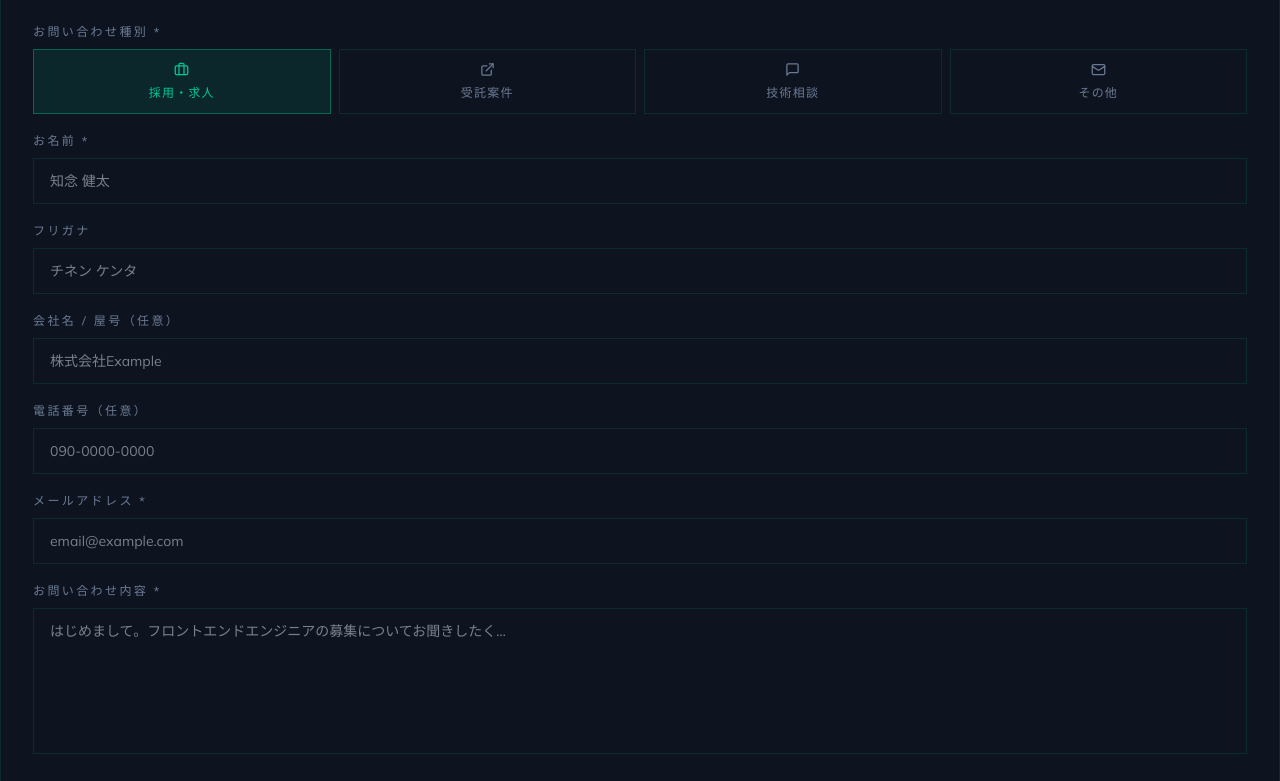
ContactForm › requires privacy policy consent before proceeding
This screenshot has width=1280, height=781.
Type "テスト太郎" into the field with placeholder "知念 健太" at (640, 181), box x1=33 y1=158 x2=1247 y2=204
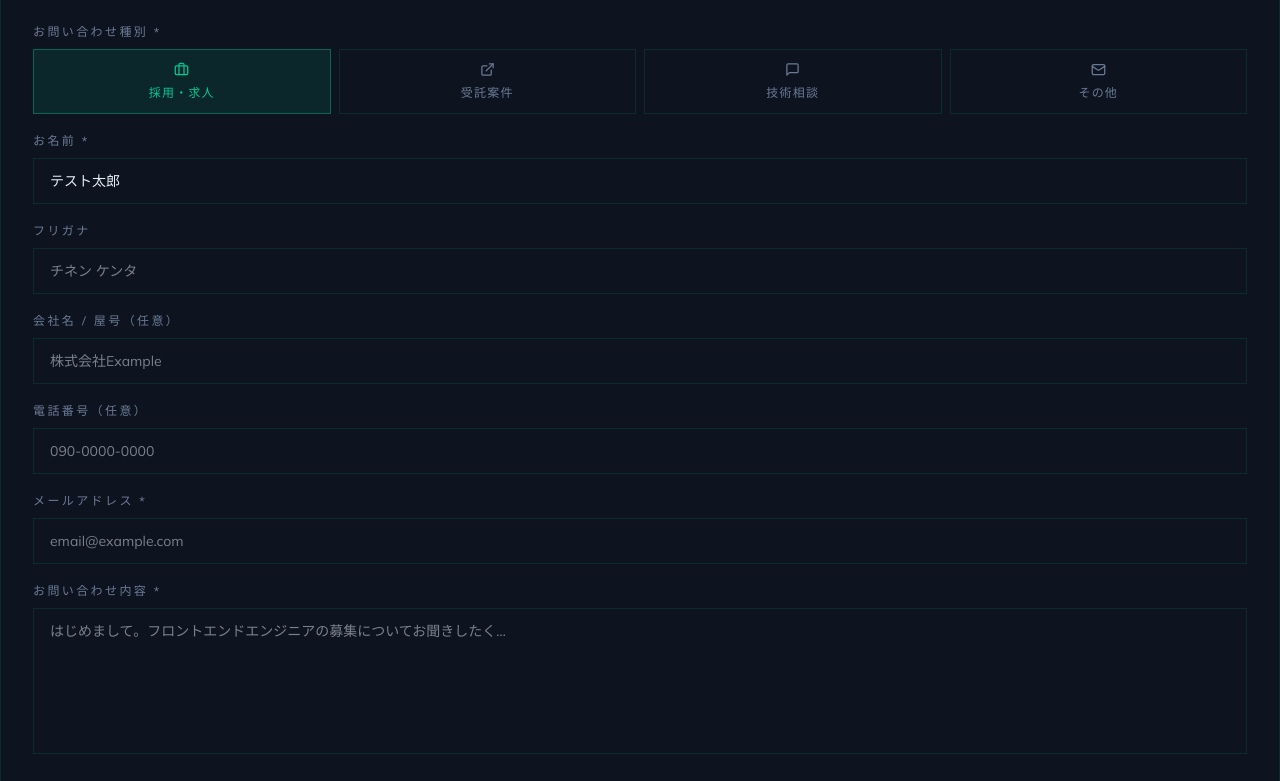
Type "test@example.com" into the field with placeholder "email@example.com" at (640, 541), box x1=33 y1=518 x2=1247 y2=564
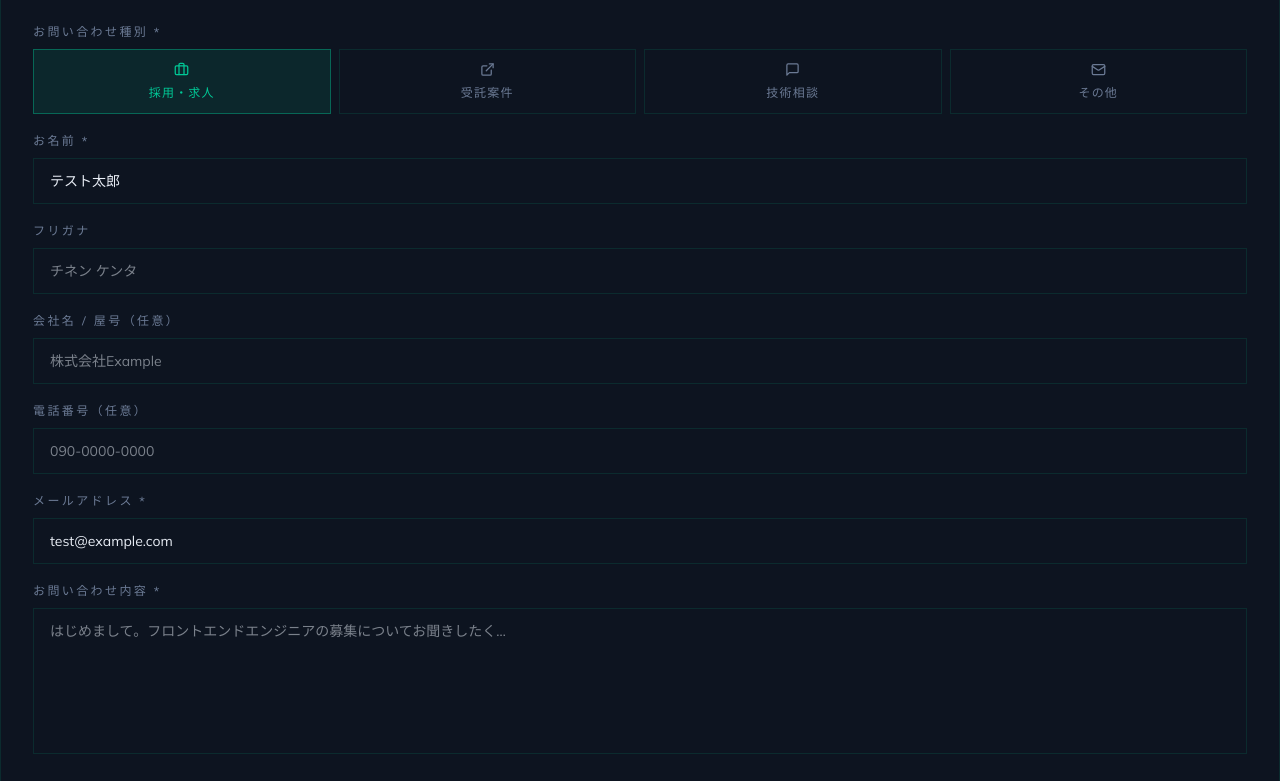
Type "お問い合わせ内容です" into the text box with placeholder "はじめまして。フロントエンドエンジニアの募集についてお聞きしたく…" at (640, 681), box x1=33 y1=608 x2=1247 y2=754
(page scrolled)
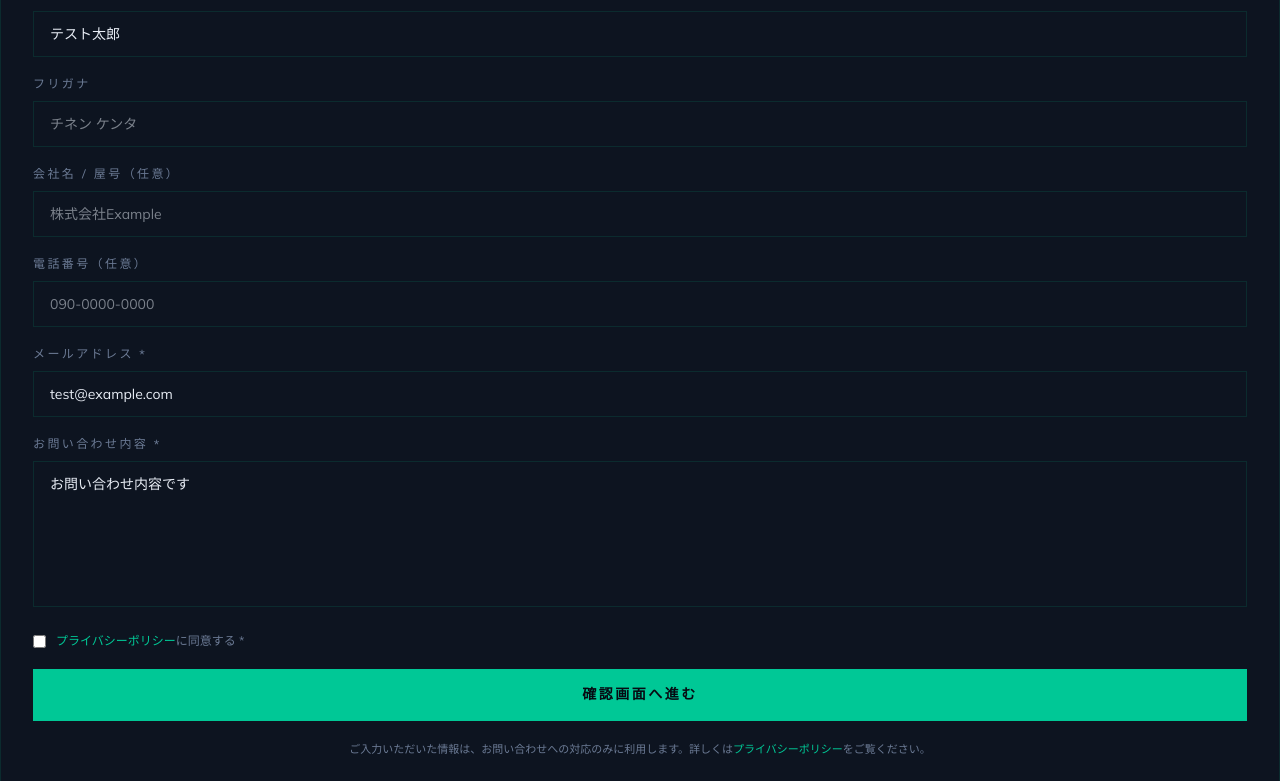
Click the button "確認画面へ進む" at (640, 695), box x1=33 y1=669 x2=1247 y2=721
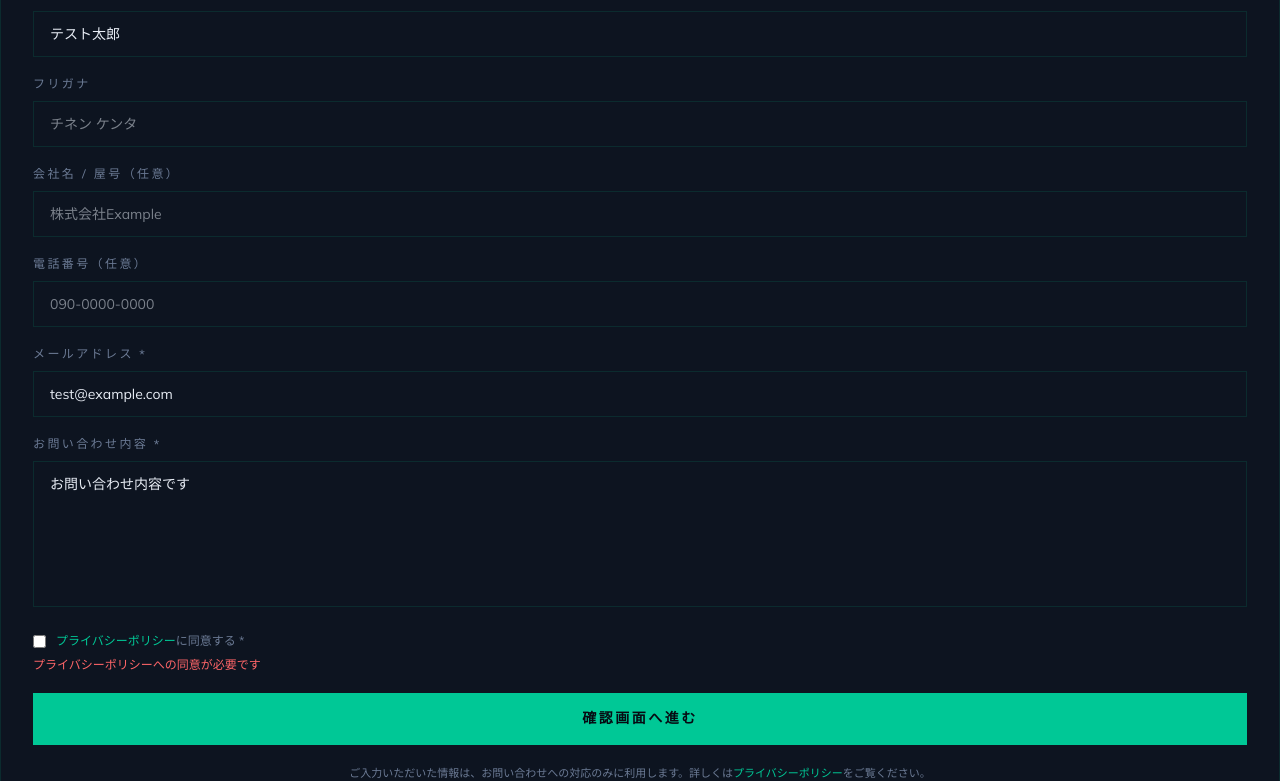
Result: the text "プライバシーポリシーへの同意が必要です" is shown at x1=33 y1=657 x2=261 y2=672
